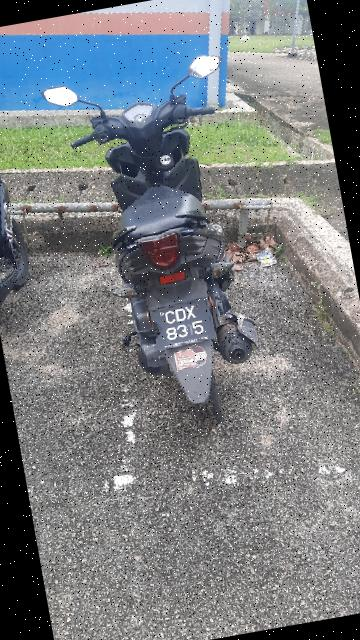License_Plate: (144, 284, 244, 374)
motorcycle: (32, 45, 294, 461)
